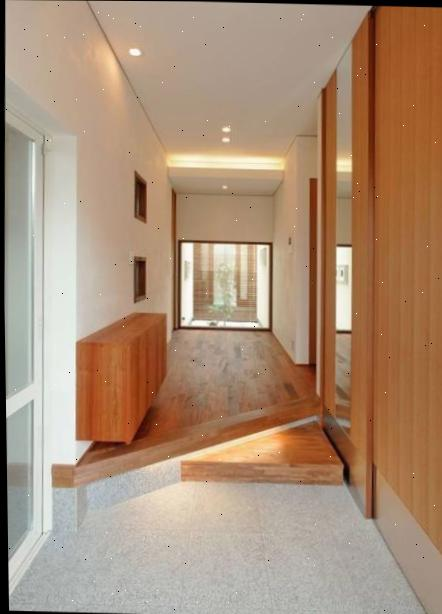floor: (9, 479, 428, 614)
safe: (76, 329, 317, 468)
